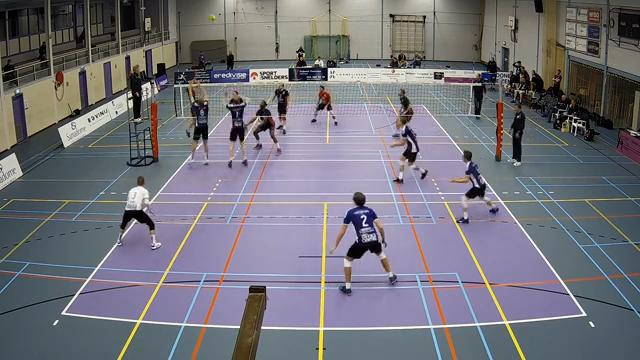Attack: (178, 70, 202, 140)
Block: (187, 80, 211, 168), (222, 87, 247, 166)
Player: (330, 192, 396, 294), (451, 150, 498, 223), (117, 176, 161, 249), (391, 117, 427, 183), (247, 100, 281, 154), (311, 85, 337, 124), (393, 89, 413, 137), (272, 83, 290, 134)
ball: (208, 14, 216, 22)
